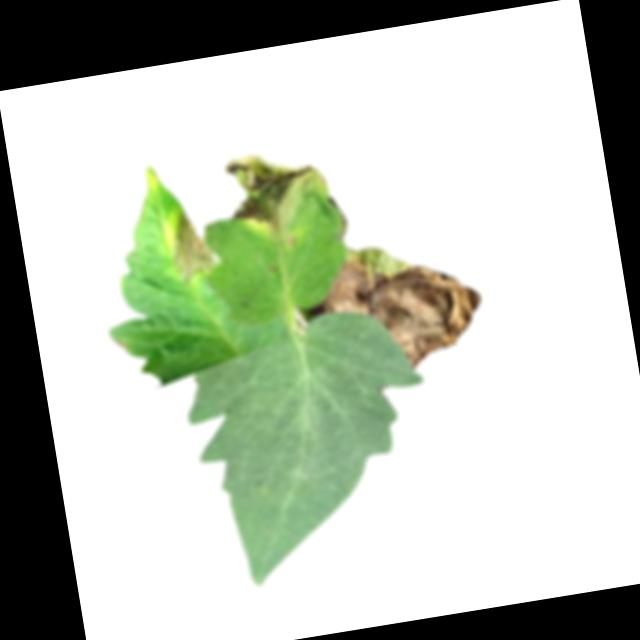Late_blight: (311, 237, 490, 384), (218, 143, 335, 248), (165, 207, 217, 285), (327, 190, 349, 238)
